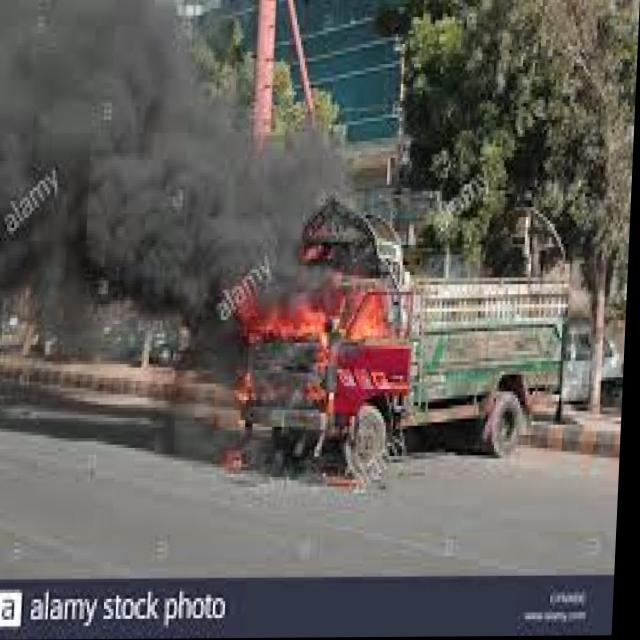fire: (227, 252, 418, 364)
